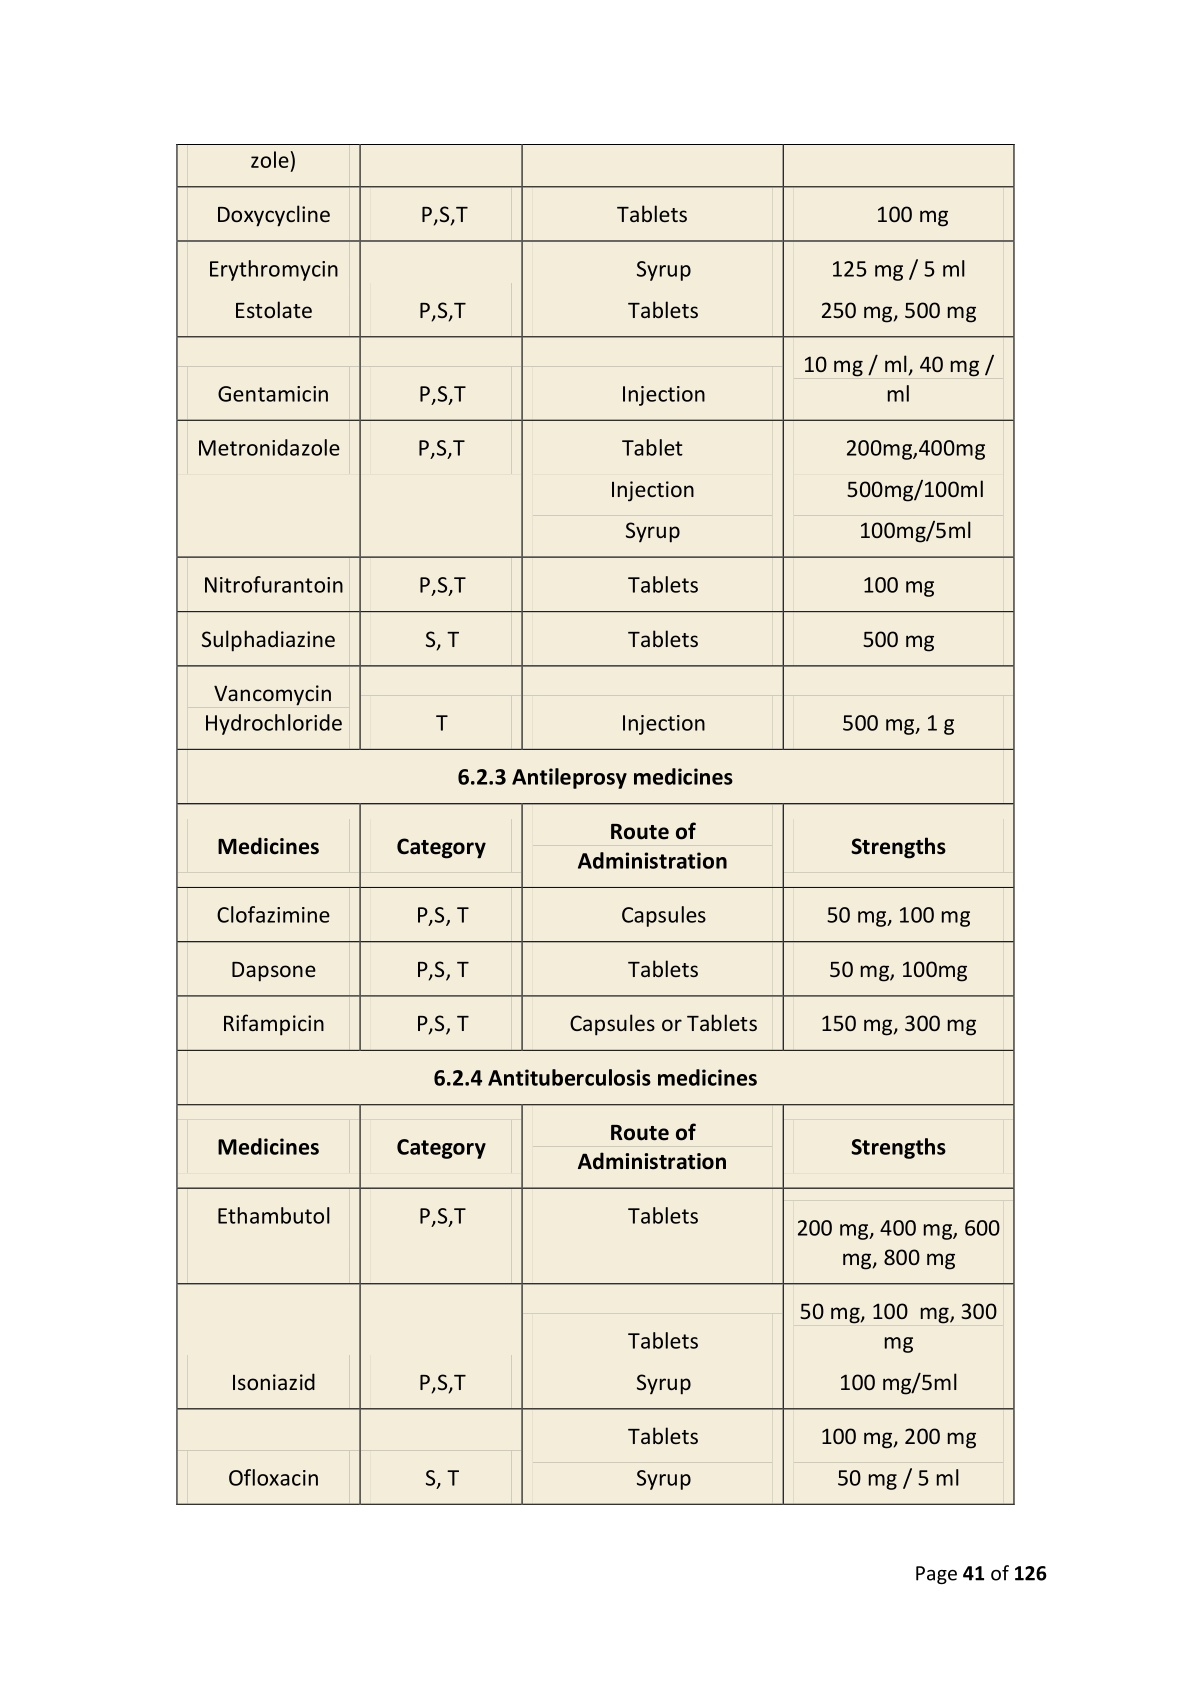merged_cells: (175, 143, 1014, 1505)
